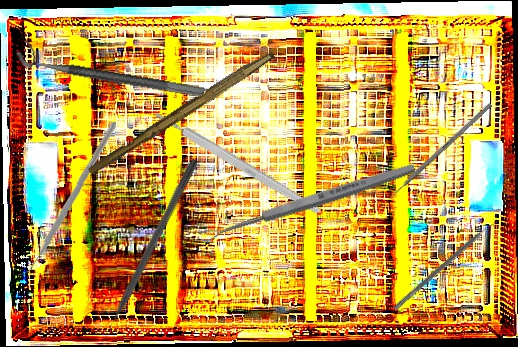Chopper: (9, 122, 122, 275)
Fixation Ring: (14, 38, 208, 99)
Pusher: (96, 157, 200, 344), (378, 102, 493, 209)
Scalpel Handle: (86, 45, 276, 180), (152, 108, 323, 217)
Spatula Surgical: (392, 217, 500, 316)
Surgical Spoon: (198, 160, 417, 245)
